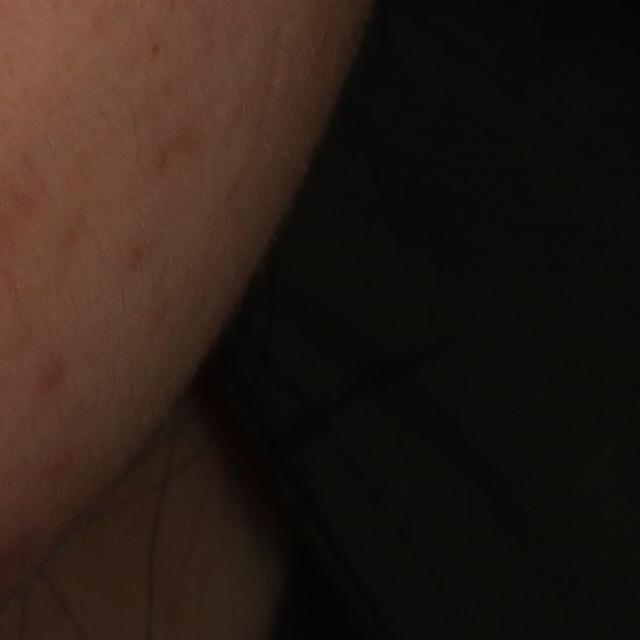papule: (33, 355, 63, 393)
